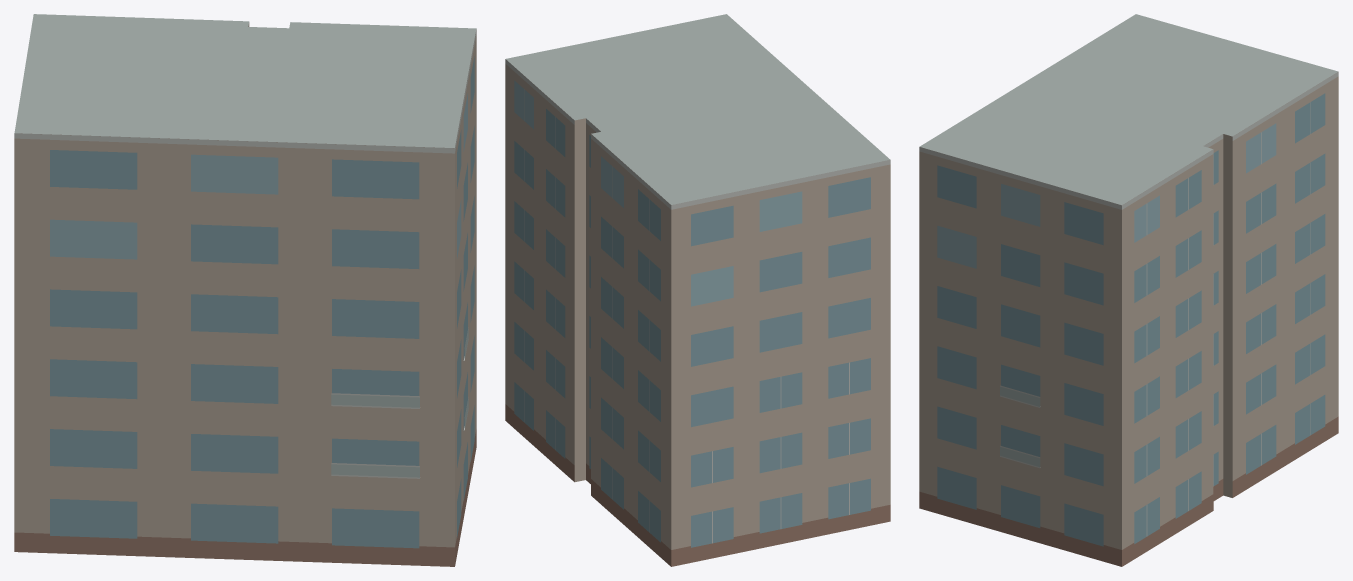
The model's file is survey-upis-32904286.glb.
3 views of the same model, side by side, from view 1: azimuth 30°, elevation 25°; view 2: azimuth 150°, elevation 25°; view 3: azimuth 270°, elevation 25° (orthographic). The views are drawn at different scales.
Visible parts, largest first — view 1: survey-upis-32904286.tmp; view 2: survey-upis-32904286.tmp; view 3: survey-upis-32904286.tmp.
Boxes of the visible parts, left/top/right/bottom form: survey-upis-32904286.tmp: left=14, top=14, right=476, bottom=566; survey-upis-32904286.tmp: left=505, top=14, right=890, bottom=566; survey-upis-32904286.tmp: left=919, top=14, right=1338, bottom=566.
Size of the model in its own units: 21.33 by 18.8 by 19.76.
